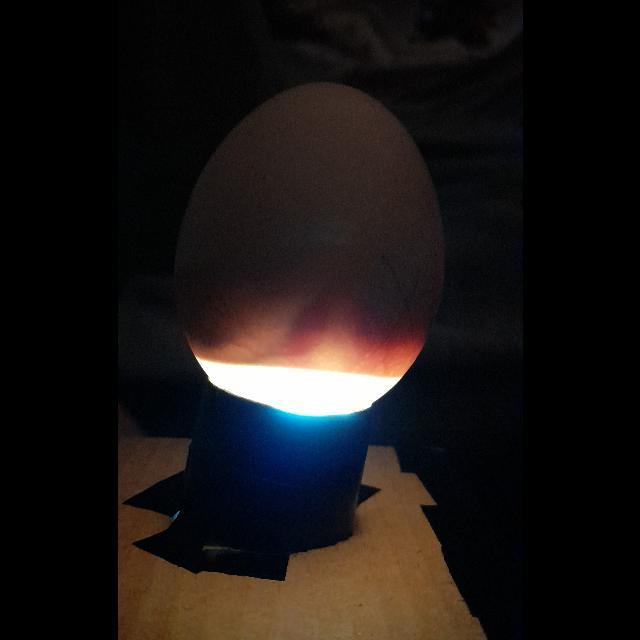Fertile: (178, 72, 442, 420)
